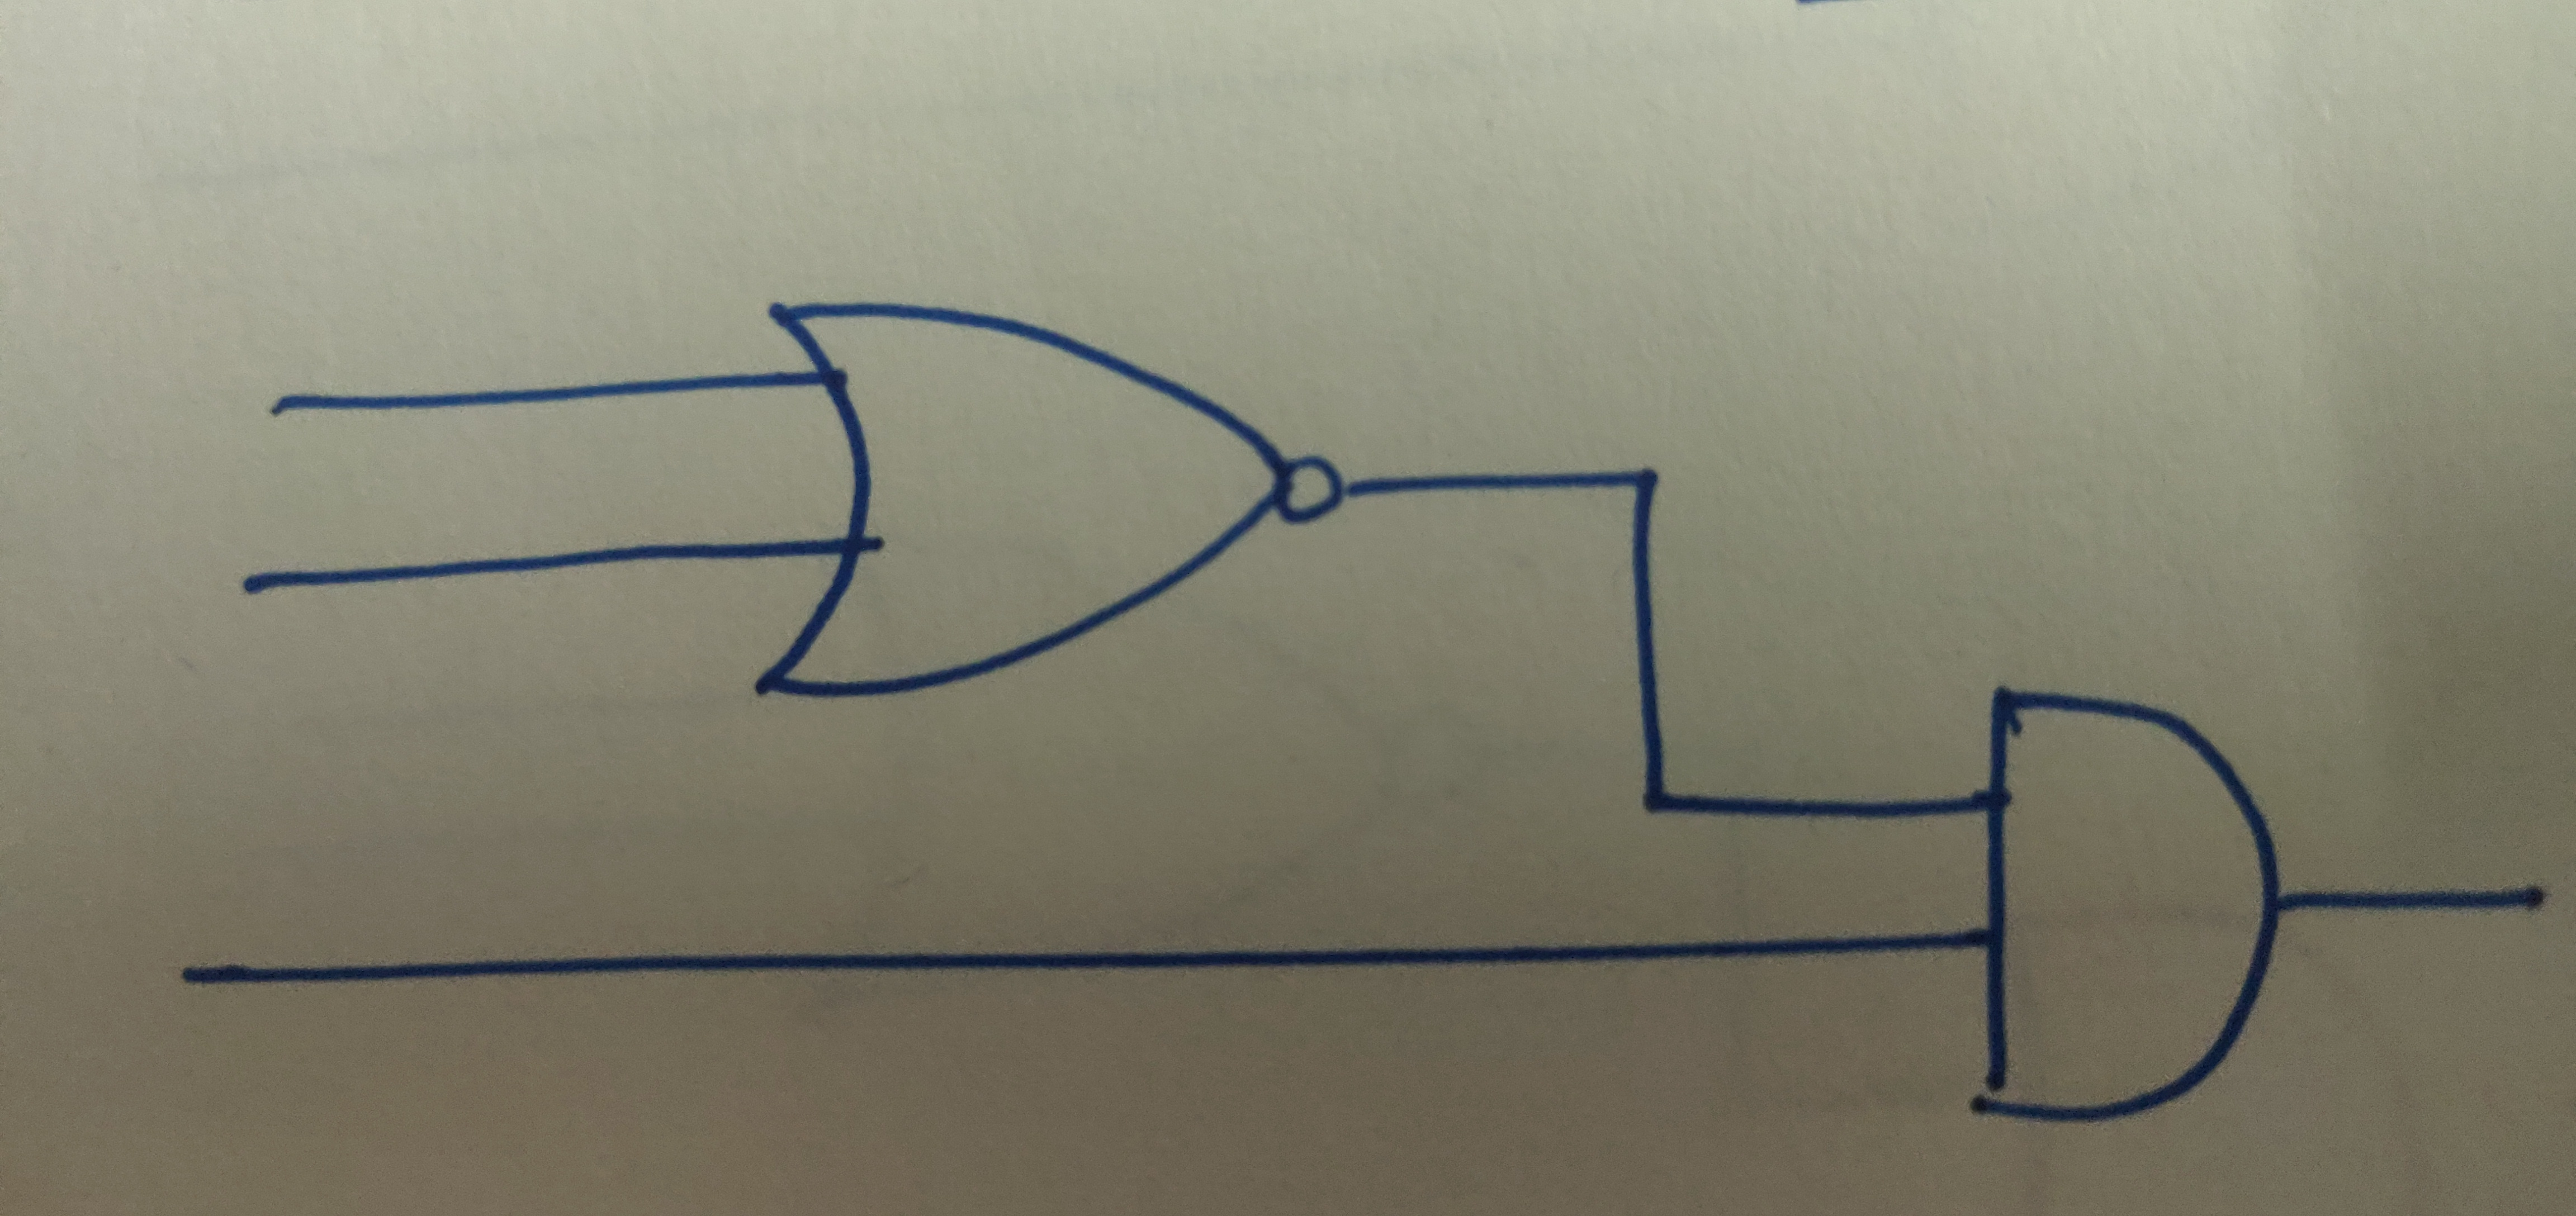and: (1985, 687, 2287, 1121)
not: (1275, 447, 1350, 532)
or: (754, 299, 1281, 700)
